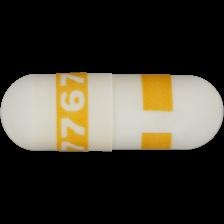16590-046: (0, 0, 224, 224)
